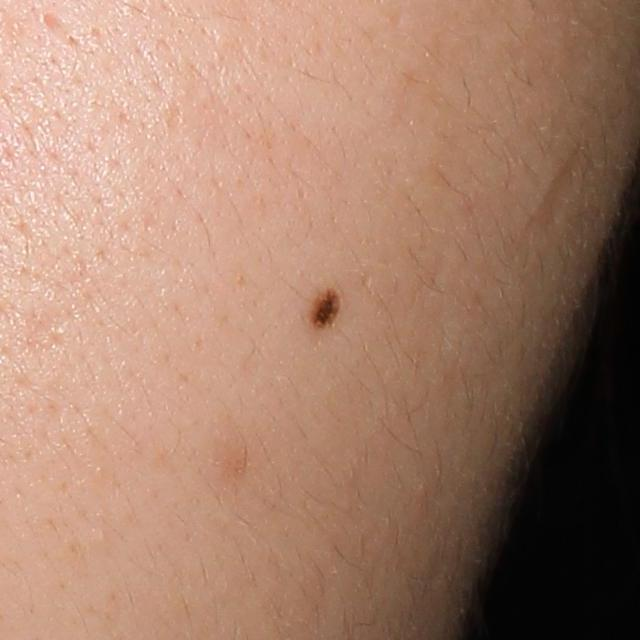atrophic_scar: (524, 140, 592, 243), (35, 7, 73, 41)
nevus: (312, 290, 340, 335)
